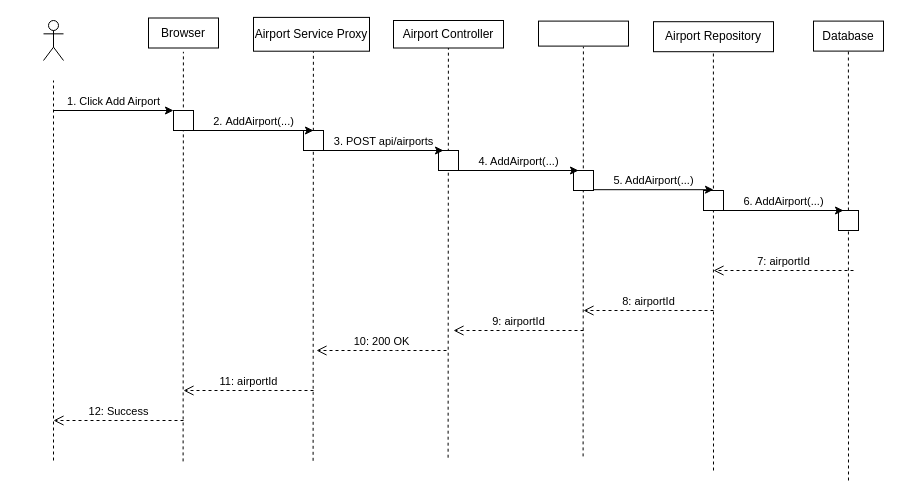
Image size: 901x500. Some labels were removed from this diagram. The box of each missing label's shape, as (x1, y1, x2, y2) in pixels:
Airport Admin: (42, 20, 64, 60)
Airport Service: (538, 20, 628, 46)
